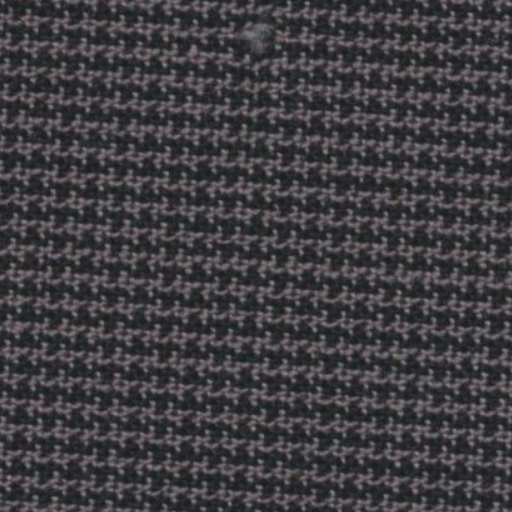PoDong: (215, 12, 291, 74)
